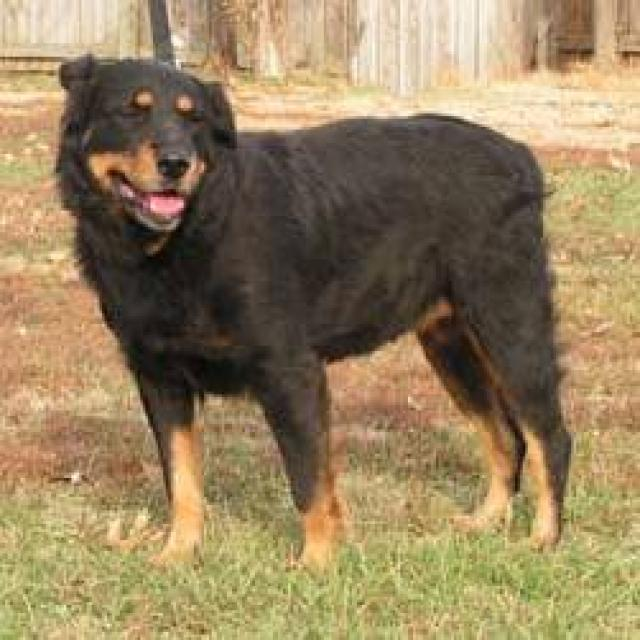dog: (51, 0, 574, 578)
